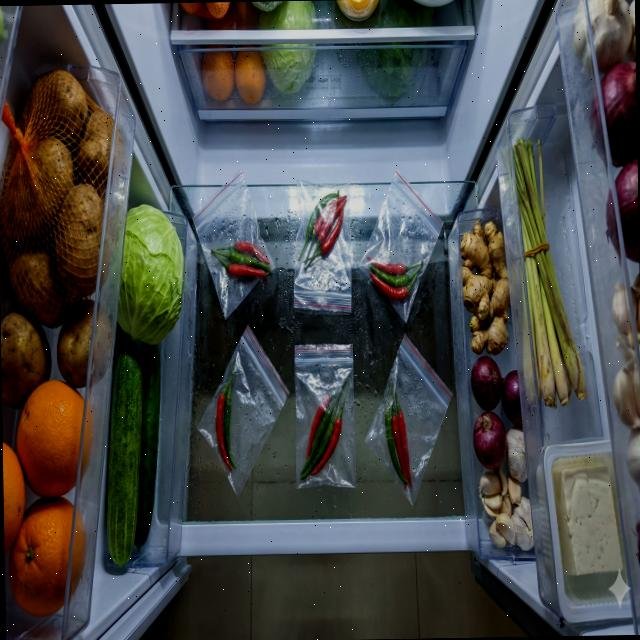cabbage: (114, 202, 186, 346), (258, 1, 318, 95)
chili: (298, 382, 351, 480), (296, 189, 348, 271), (384, 378, 412, 490), (366, 255, 424, 302), (214, 361, 236, 471), (210, 240, 271, 278)
cucumber: (104, 339, 164, 567)
garlic: (476, 424, 534, 552), (611, 278, 640, 350), (612, 360, 640, 428)
ginger: (459, 218, 512, 356)
lemongrass: (512, 134, 588, 410)
onion: (470, 354, 522, 471)
orange: (1, 379, 95, 619), (201, 49, 266, 105)
potato: (0, 66, 130, 409)
tofu: (551, 464, 623, 576)
